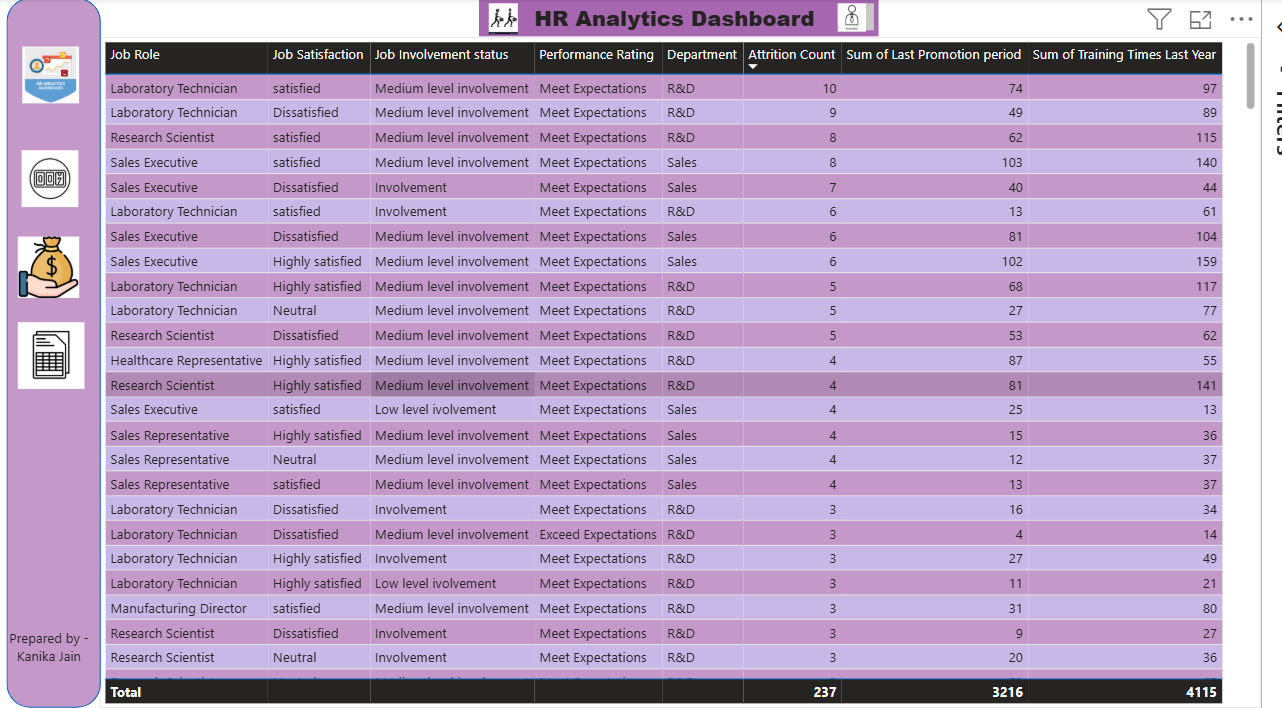

The dashboard page shown, as its layout file describes it:
{"tool":"powerbi","page":{"name":"Tablular Data","canvas":[1280,720],"ordinal":4},"visuals":[{"type":"tableEx","fields":{"Values":["HR.Job Role","HR.Job Satisfaction","HR.Job Involvement status","HR.Performance Rating","HR.Department","Dax measures.Attrition Count","Sum(HR.Last Promotion period)","Sum(HR.Training Times Last Year)"]},"box":[108.1,38.7,1171.4,677.7],"z":0},{"type":"shape","box":[12.9,0,95.2,716.4],"z":1000},{"type":"textbox","box":[490.5,0,403.4,38.7],"z":2000},{"type":"image","box":[24.2,19.4,67.8,116.2],"z":3000},{"type":"image","box":[17.7,148.4,79.1,67.8],"z":4000},{"type":"image","box":[19.4,230.7,72.6,83.9],"z":5000},{"type":"image","box":[19.4,317.9,77.4,85.5],"z":6000},{"type":"textbox","box":[11.3,630.9,92,88.7],"z":7000},{"type":"image","box":[438.9,0,151.7,41.9],"z":8000},{"type":"image","box":[814.8,0,104.9,38.7],"z":9000}]}

Visuals, with their boxes on the page's 1280x720 design canvas (x1, y1, x2, y2). These are canvas units, not pixel positions in the 1282x708 screenshot, which may show the page scaled, cropped or inside an application window:
tableEx - HR.Job Role x HR.Job Satisfaction: box(108, 39, 1280, 716)
shape: box(13, 0, 108, 716)
textbox: box(490, 0, 894, 39)
image: box(24, 19, 92, 136)
image: box(18, 148, 97, 216)
image: box(19, 231, 92, 315)
image: box(19, 318, 97, 403)
textbox: box(11, 631, 103, 720)
image: box(439, 0, 591, 42)
image: box(815, 0, 920, 39)
